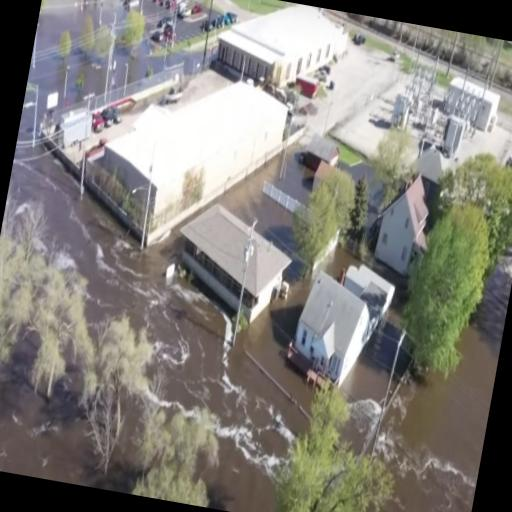flood: (8, 141, 313, 512), (376, 251, 512, 512), (0, 330, 139, 493), (380, 324, 499, 512), (341, 262, 406, 451), (24, 0, 106, 127), (222, 155, 292, 243), (320, 242, 360, 281), (114, 51, 152, 82), (101, 0, 126, 27)
house: (88, 59, 290, 266), (164, 196, 300, 337), (281, 253, 398, 400), (209, 0, 349, 103), (369, 168, 438, 278), (438, 72, 504, 136), (298, 128, 344, 182)
